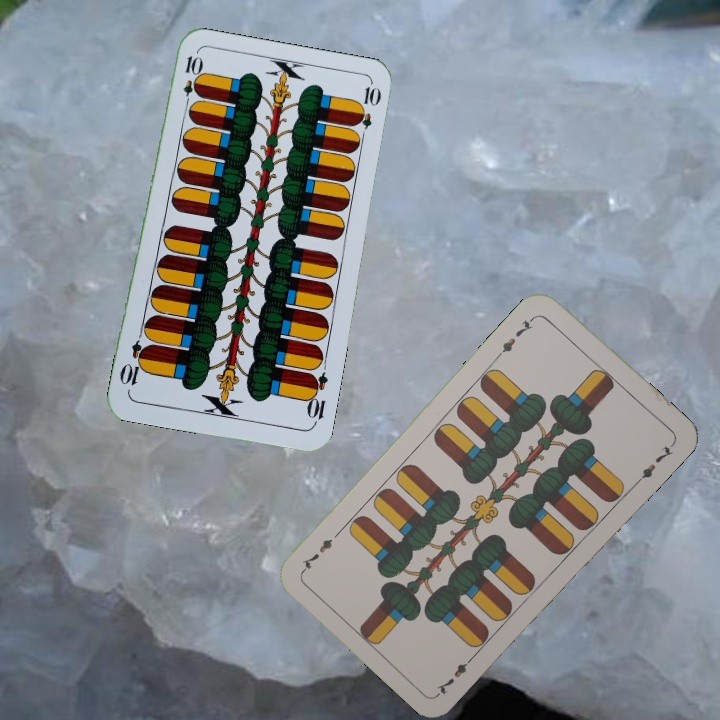E10: (302, 369, 330, 428), (179, 52, 202, 111)
E7: (432, 650, 479, 698), (494, 311, 539, 359)
